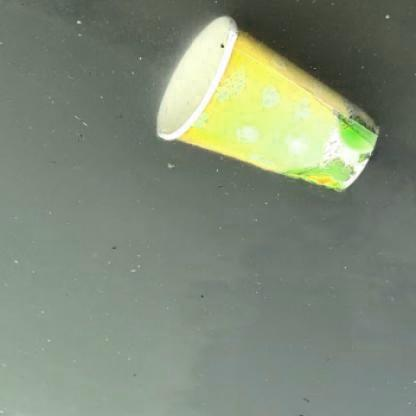Trash: (154, 11, 383, 196)
